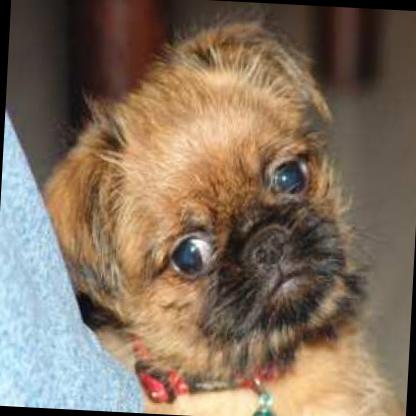Brabancon_griffon: (29, 4, 416, 416)
